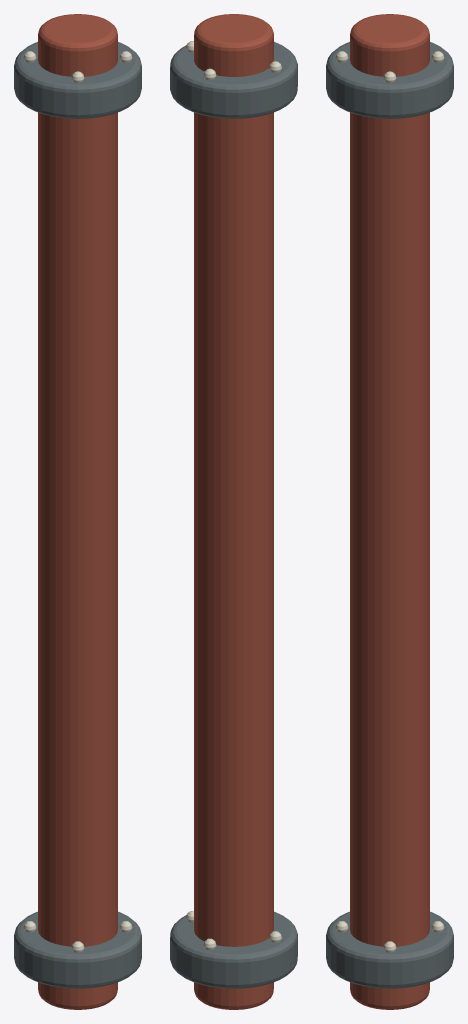
File: FlangedPipe.fbx
3 renders of one model, left to right at view 1: azimuth 90°, elevation 25°; view 2: azimuth 150°, elevation 25°; view 3: azimuth 270°, elevation 25°, orthographic.
Parts seen in each view (by area): view 1: Pipe, Flange.001, Flange; view 2: Pipe, Flange, Flange.001; view 3: Pipe, Flange.001, Flange.
Part boxes in pixels (x1,y1,x2,y2): Pipe: [38, 14, 117, 1009]; Flange.001: [14, 42, 141, 118]; Flange: [14, 911, 141, 988]; Pipe: [194, 14, 273, 1009]; Flange: [170, 911, 297, 988]; Flange.001: [170, 41, 297, 118]; Pipe: [350, 14, 429, 1009]; Flange.001: [326, 42, 453, 118]; Flange: [326, 911, 453, 988].
Size of the model in its own units: 24 by 200 by 24.
